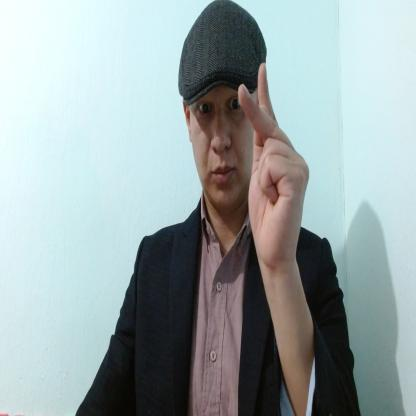P: (236, 60, 310, 267)
